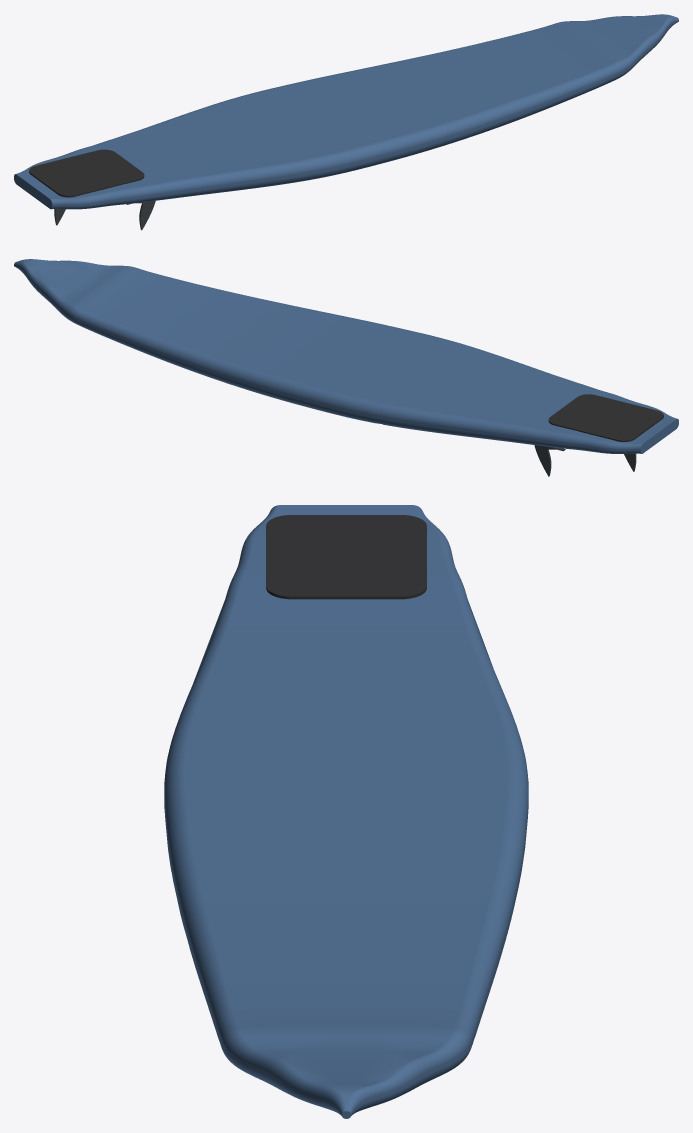
3 renders of one model, top to bottom at view 1: azimuth 30°, elevation 25°; view 2: azimuth 150°, elevation 25°; view 3: azimuth 270°, elevation 25°, orthographic. The views are drawn at different scales.
Parts seen in each view (by area): view 1: body.1, rubber.4; view 2: body.1, rubber.4, fin.2; view 3: body.1, rubber.4.
Part boxes in pixels (x1,y1,x2,y2): body.1: [14, 14, 678, 209]; rubber.4: [29, 149, 144, 197]; body.1: [14, 259, 678, 453]; rubber.4: [548, 394, 663, 442]; fin.2: [534, 445, 562, 476]; body.1: [164, 505, 528, 1118]; rubber.4: [266, 515, 426, 599].
Size of the model in its own units: 2.29 by 0.21 by 0.5593.
